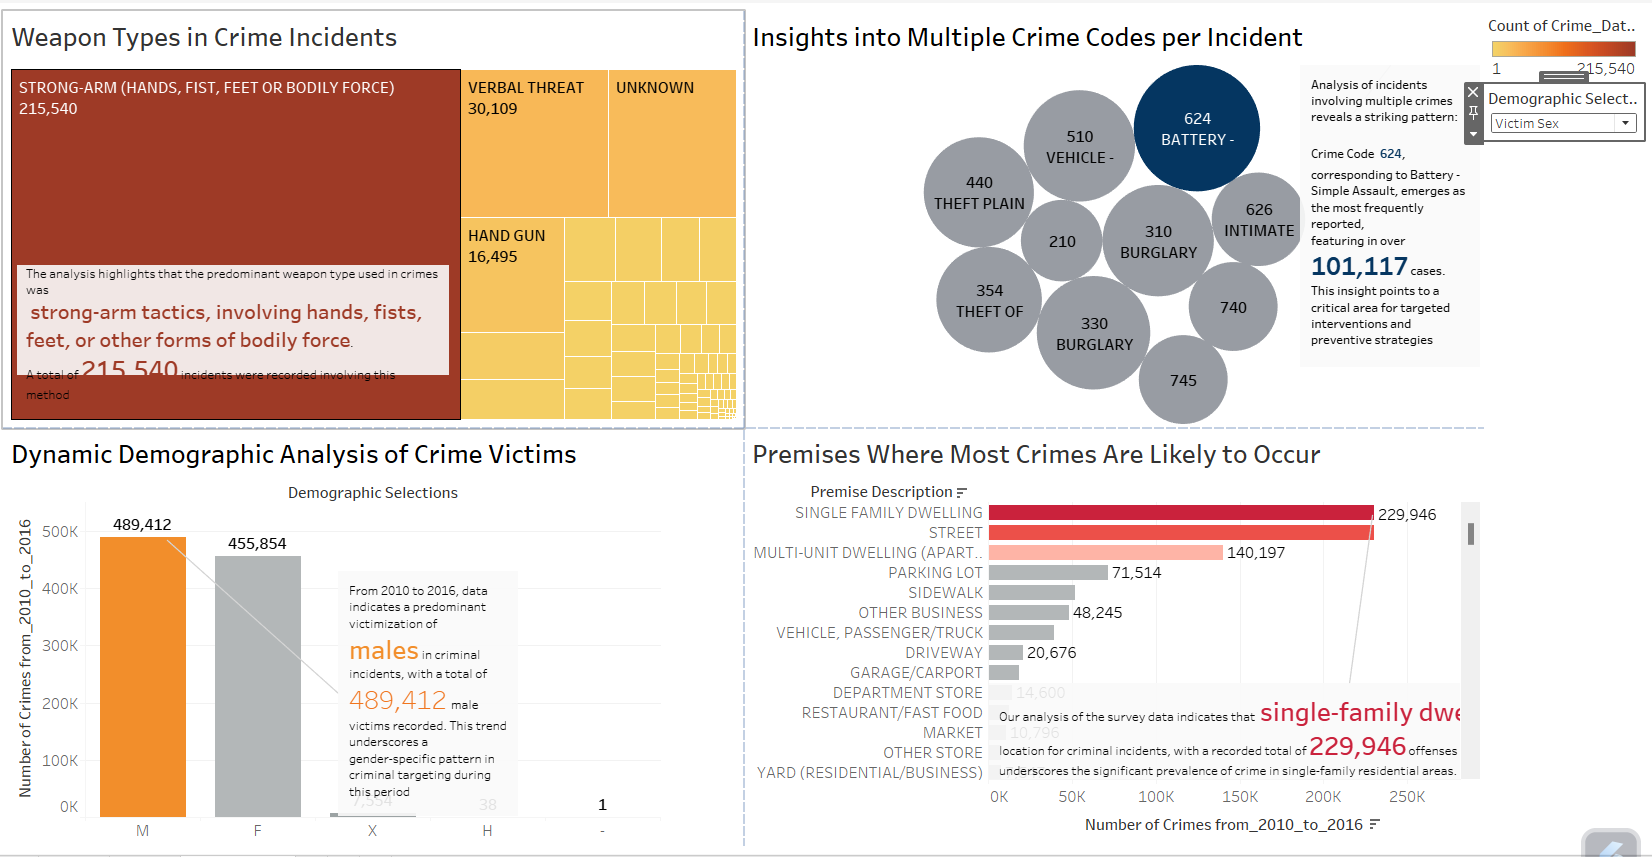

What the dashboard file says about the page in this screenshot:
{"tool":"tableau","page":{"name":"Dashboard ","canvas":[1000,1000],"units":"permille","ordinal":0},"visuals":[{"type":"worksheet","title":"Sheet 1","mark":"Automatic","box":[4.8,9.4,446.9,490.6]},{"type":"worksheet","title":"Sheet 2","mark":"Circle","box":[451.7,9.4,446.9,490.6]},{"type":"legend","title":"Sheet 1","param":"[federated.08u9k480c84z8u18jdf9m104pjmr].[__tableau_internal_object_id__].[cnt:C","box":[898.6,9.4,96.6,85.8]},{"type":"parameter","param":"[Parameters].[Parameter 1]","box":[898.6,95.2,96.6,65.8]},{"type":"worksheet","title":"Sheet 3","mark":"Automatic","rows":["Crime_Data_from_2010_to_2016 (Final).txt_5FD55762AD06408599B"],"cols":["Calculation_320037048593768453"],"box":[4.8,500,446.9,490.6]},{"type":"worksheet","title":"Sheet 4","mark":"Automatic","rows":["Premise Description"],"cols":["Crime_Data_from_2010_to_2016 (Final).txt_5FD55762AD06408599B"],"box":[451.7,500,446.9,490.6]}]}

Visuals, with their boxes on the dashboard's canvas, which has no fixed pixel size, in thousandths of its width and height (x1, y1, x2, y2). These are canvas units, not pixel positions in the 1652x857 screenshot, which may show the page scaled, cropped or inside an application window:
"Sheet 1" worksheet: locate(5, 9, 452, 500)
"Sheet 2" worksheet (Circle marks): locate(452, 9, 899, 500)
"Sheet 1" legend: locate(899, 9, 995, 95)
parameter: locate(899, 95, 995, 161)
"Sheet 3" worksheet: locate(5, 500, 452, 991)
"Sheet 4" worksheet: locate(452, 500, 899, 991)
